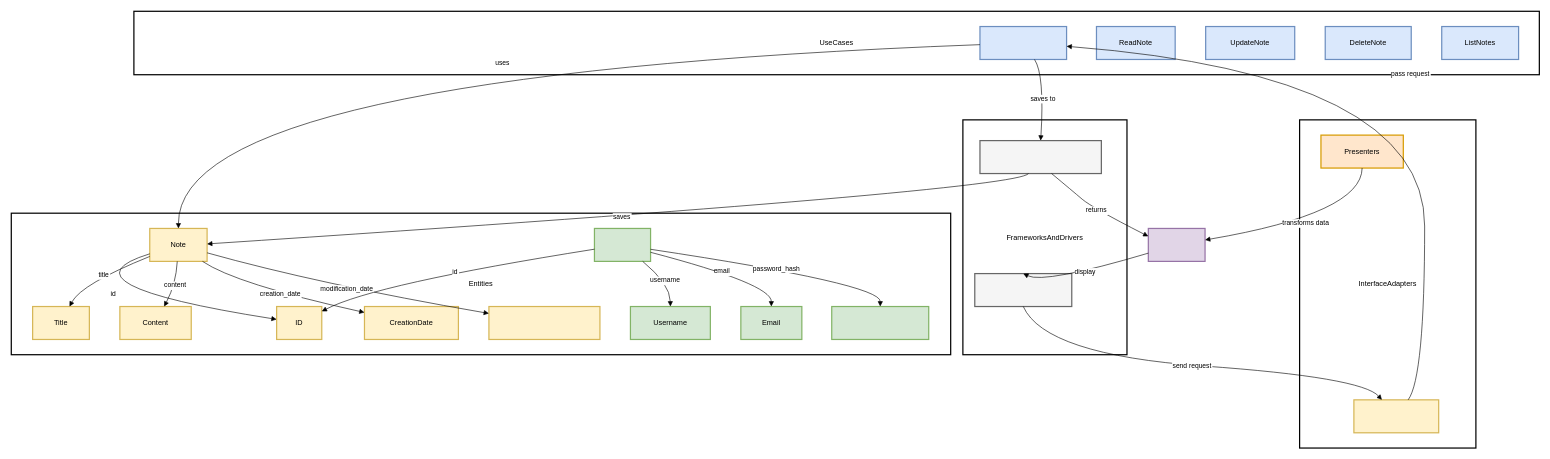
The diagram is 1550 pixels wide and 459 high, and some of its shapes have lost their labels. The shapes that lost their labels are listed below. From the top down, each one's centre as x and y in pixels, then its label:
At pixel 1023 43: "CreateNote".
At pixel 1040 157: "Database Gateways".
At pixel 622 245: "User".
At pixel 1176 245: "Data".
At pixel 1023 290: "UI Controllers".
At pixel 544 323: "ModificationDate".
At pixel 880 323: "PasswordHash".
At pixel 1396 416: "Controllers".
